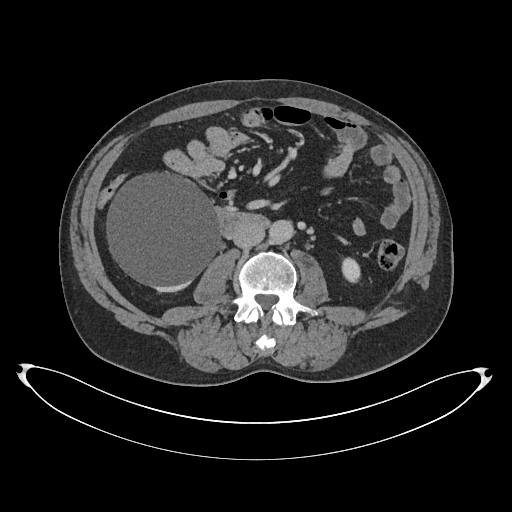Lesion: (106, 171, 220, 287)
